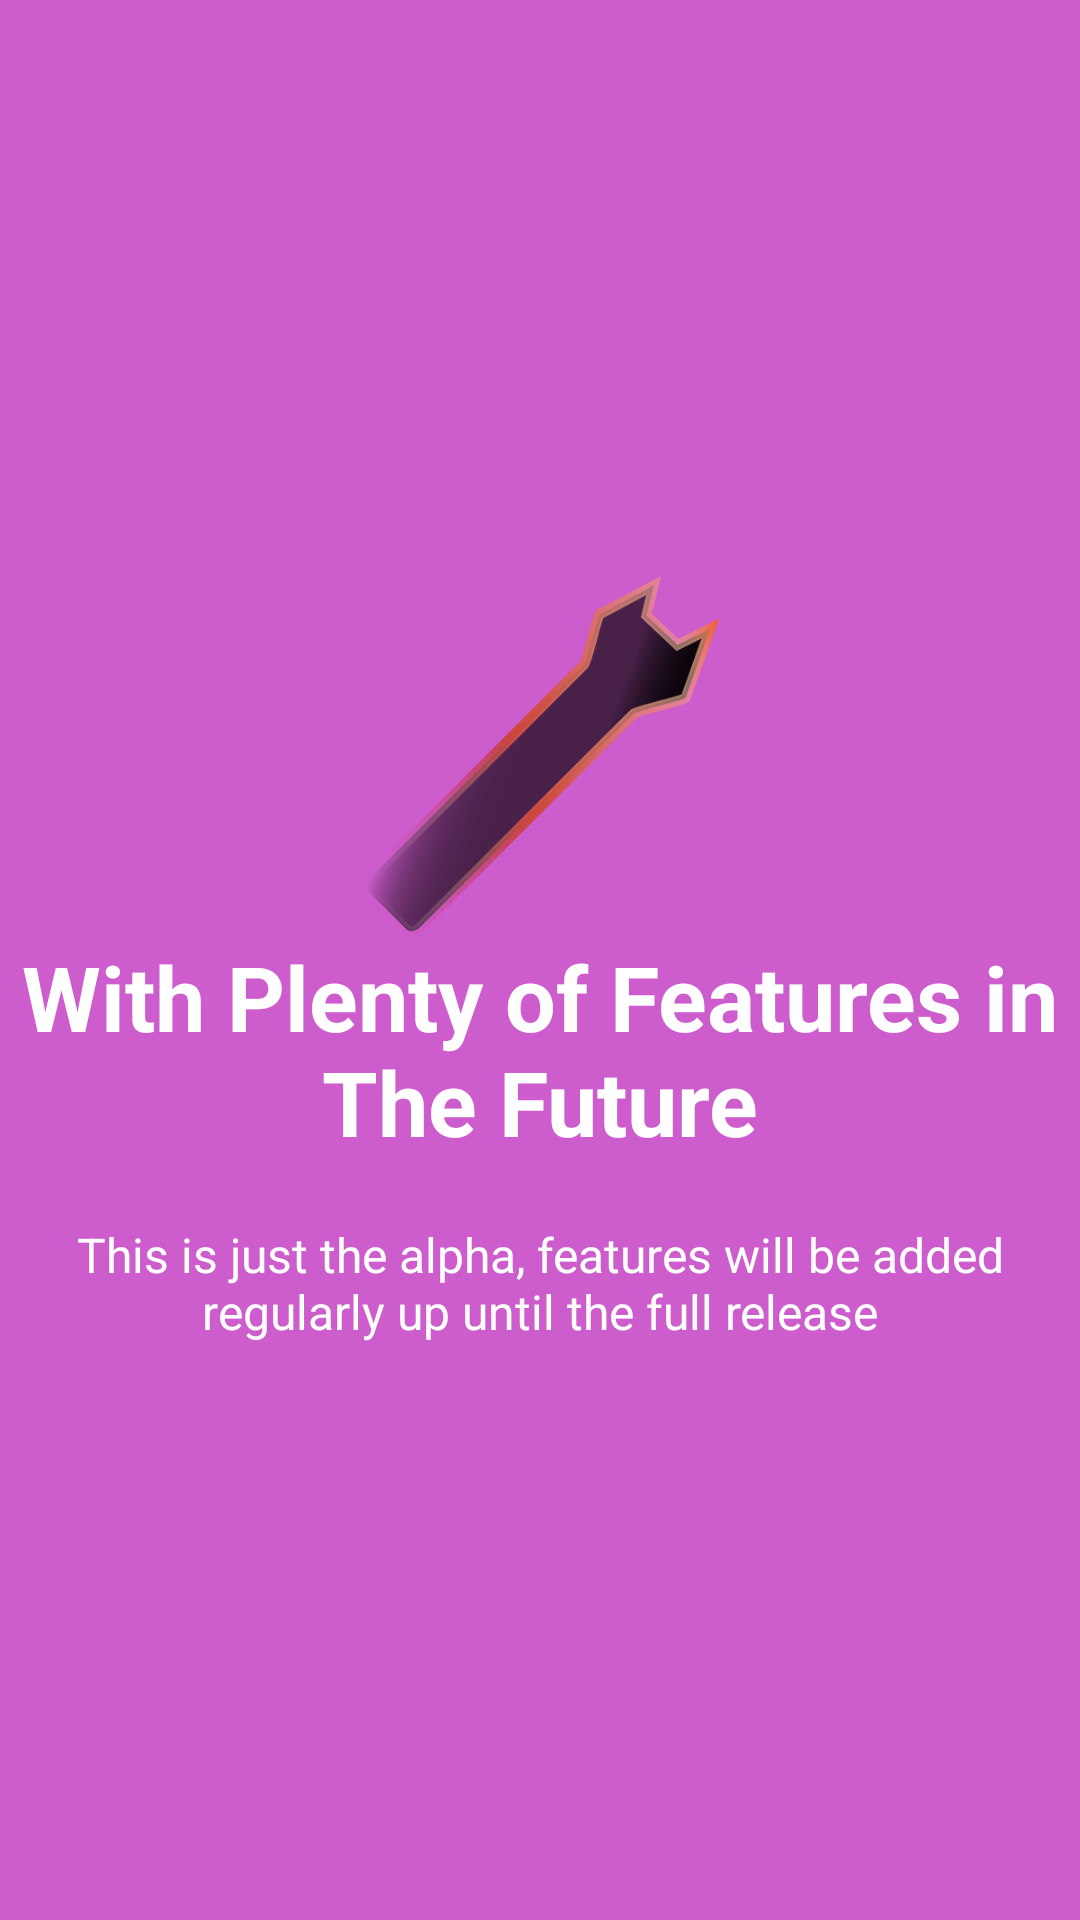

Screen size 1080w x 1920h. Icon name, then its center in pixels as (x=x, y=y):
wrench high dens: (x=545, y=754)
